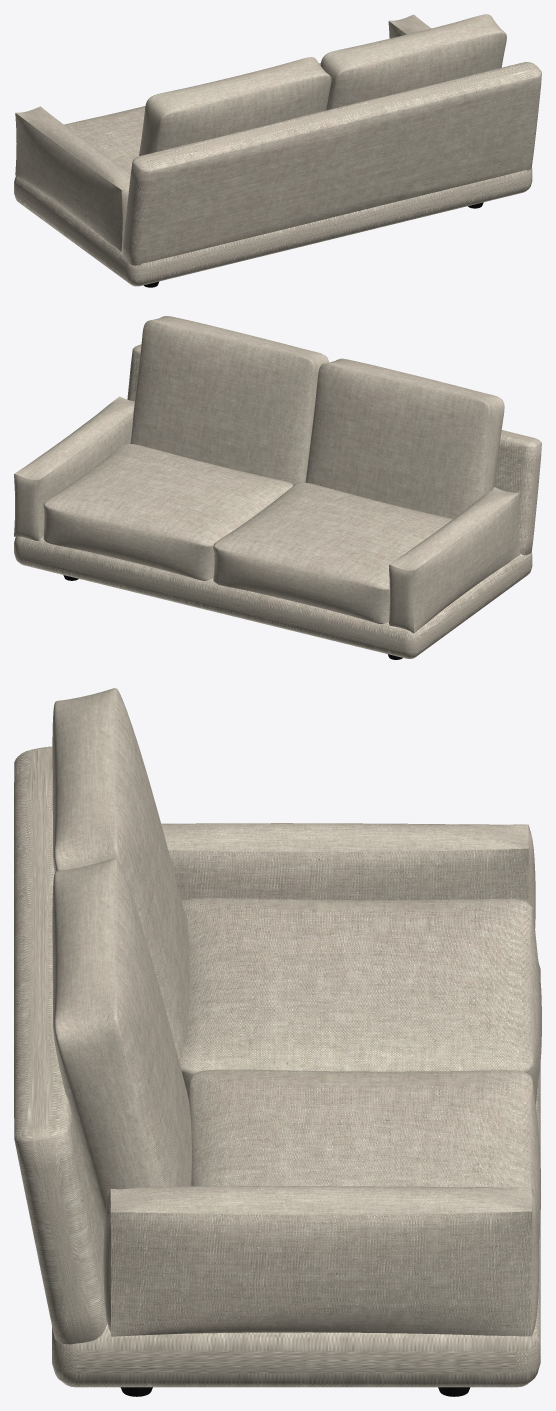
3 renders of one model, top to bottom at view 1: azimuth 30°, elevation 25°; view 2: azimuth 150°, elevation 25°; view 3: azimuth 270°, elevation 25°, orthographic. The views are drawn at different scales.
Parts seen in each view (by area): view 1: ChamferBox005, ChamferBox004, Box003, Box088, Box005, Box001, Box006; view 2: Box088, Box003, Box002, Box001, ChamferBox004, Box005, Box006, ChamferBox005; view 3: Box006, Box001, Box002, Box088, ChamferBox005, Box005, ChamferBox004, Box003.
Boxes of the visible parts, x1=… form: ChamferBox005: x1=122, y1=62, x2=541, y2=265; ChamferBox004: x1=14, y1=167, x2=532, y2=286; Box003: x1=139, y1=57, x2=331, y2=155; Box088: x1=320, y1=14, x2=506, y2=110; Box005: x1=15, y1=106, x2=130, y2=251; Box001: x1=64, y1=106, x2=145, y2=172; Box006: x1=388, y1=14, x2=431, y2=38; Box088: x1=130, y1=316, x2=328, y2=485; Box003: x1=305, y1=358, x2=504, y2=518; Box002: x1=43, y1=444, x2=292, y2=580; Box001: x1=213, y1=482, x2=452, y2=623; ChamferBox004: x1=14, y1=536, x2=532, y2=658; Box005: x1=389, y1=487, x2=519, y2=633; Box006: x1=14, y1=396, x2=134, y2=540; ChamferBox005: x1=127, y1=344, x2=541, y2=555; Box006: x1=103, y1=1186, x2=538, y2=1336; Box001: x1=178, y1=898, x2=541, y2=1103; Box002: x1=187, y1=1069, x2=540, y2=1242; Box088: x1=52, y1=858, x2=191, y2=1232; ChamferBox005: x1=14, y1=746, x2=107, y2=1344; Box005: x1=161, y1=823, x2=535, y2=928; ChamferBox004: x1=52, y1=963, x2=540, y2=1387; Box003: x1=52, y1=688, x2=190, y2=1058.
Size of the model in its own units: 191 by 87.49 by 108.
3 materials, 2 textured.
